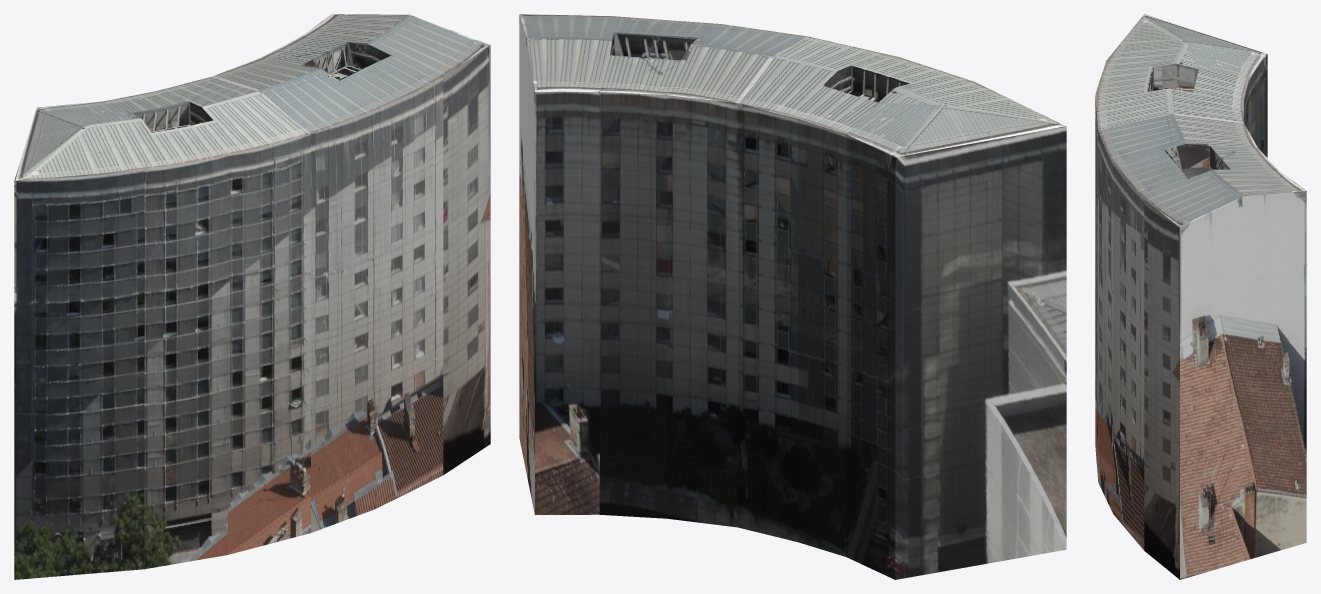
3 renders of one model, left to right at view 1: azimuth 30°, elevation 25°; view 2: azimuth 150°, elevation 25°; view 3: azimuth 270°, elevation 25°, orthographic. The views are drawn at different scales.
Visible parts, largest first — view 1: Z_UP; view 2: Z_UP; view 3: Z_UP.
Boxes of the visible parts, <box> form: Z_UP: <box>14,14,490,579</box>; Z_UP: <box>519,14,1066,579</box>; Z_UP: <box>1095,14,1306,579</box>.
Size of the model in its own units: 44.92 by 35.75 by 18.76.
Materials: 2 (1 with a texture image).
